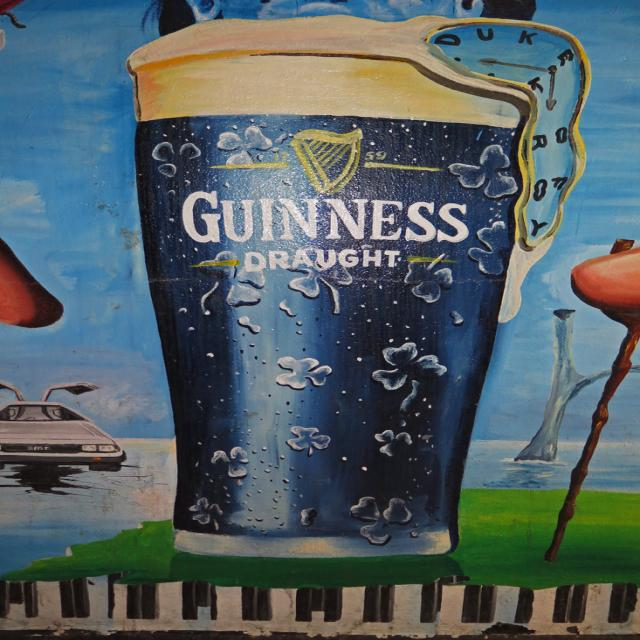car: (4, 391, 125, 488)
